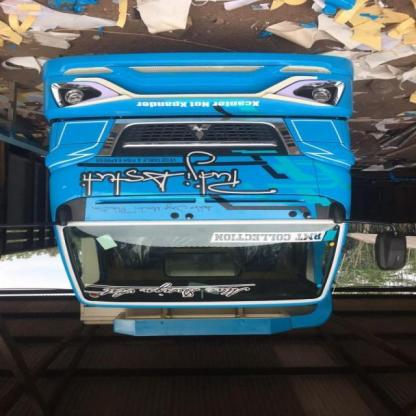truck: (43, 52, 404, 337)
